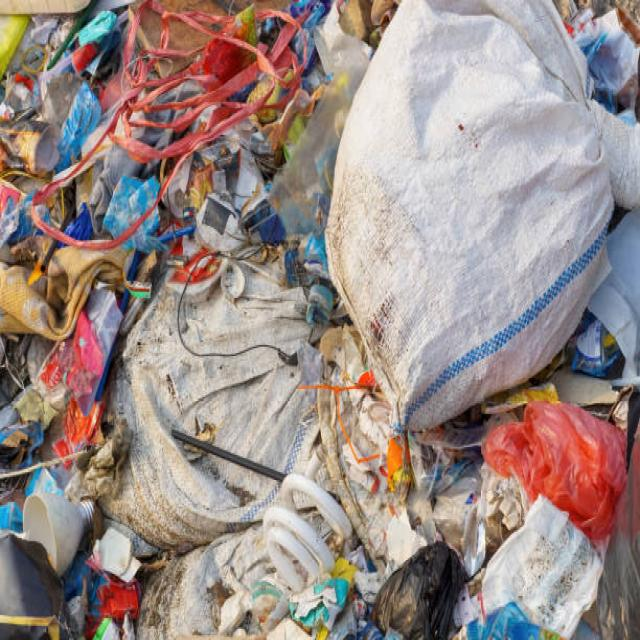trash: (362, 74, 565, 359), (143, 329, 276, 512)
